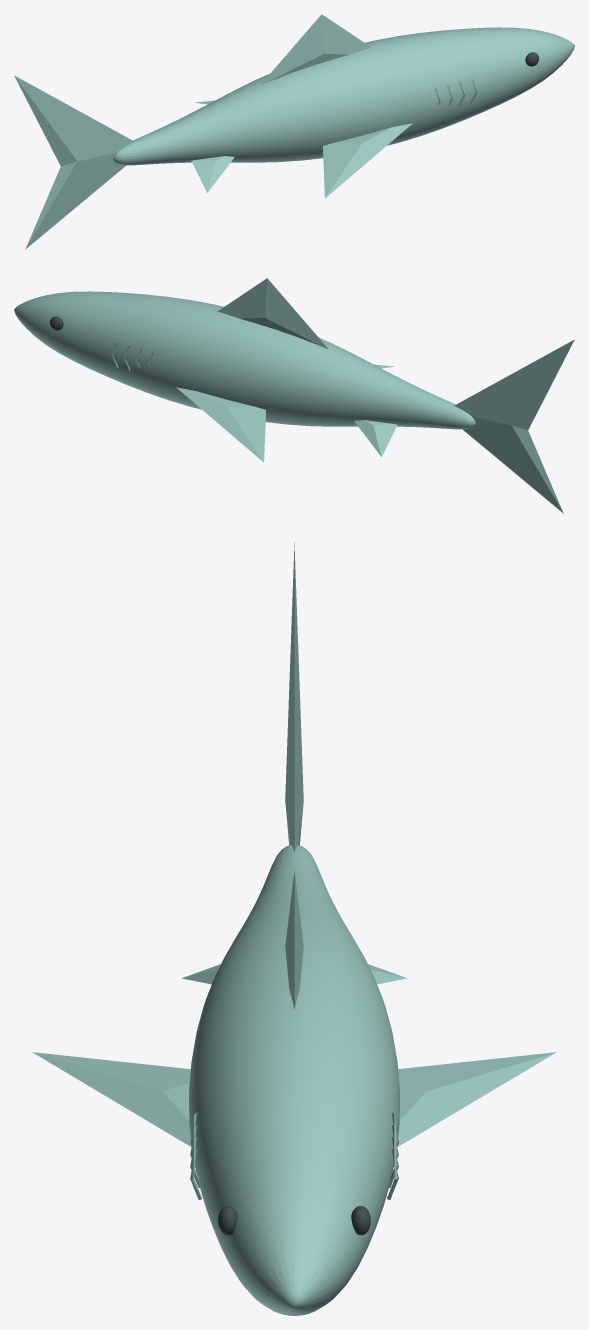
3 renders of one model, top to bottom at view 1: azimuth 30°, elevation 25°; view 2: azimuth 150°, elevation 25°; view 3: azimuth 270°, elevation 25°, orthographic. The views are drawn at different scales.
Parts seen in each view (by area): view 1: Body, Tail, Dorsal, Pectoral, Pelvic; view 2: Body, Tail, Dorsal, Pectoral.001, Pelvic.001; view 3: Body, Pectoral.001, Pectoral, Tail, Dorsal.
Part boxes in pixels (<box>): Body: <box>113,27,574,165</box>; Tail: <box>14,75,134,249</box>; Dorsal: <box>260,14,371,85</box>; Pectoral: <box>323,123,412,198</box>; Pelvic: <box>191,156,234,192</box>; Body: <box>14,291,475,429</box>; Tail: <box>454,339,574,513</box>; Dorsal: <box>217,278,328,349</box>; Pectoral.001: <box>176,387,265,462</box>; Pelvic.001: <box>354,420,397,456</box>; Body: <box>189,845,399,1315</box>; Pectoral.001: <box>397,1052,556,1147</box>; Pectoral: <box>32,1052,191,1146</box>; Tail: <box>285,542,303,851</box>; Dorsal: <box>285,870,303,1009</box>.
Size of the model in its own units: 252 by 76 by 102.
